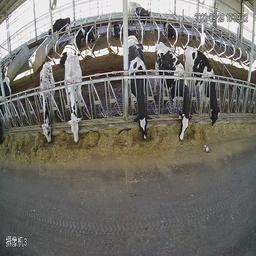cow: (153, 42, 189, 143), (190, 45, 221, 131), (128, 27, 148, 142), (63, 56, 84, 148), (38, 60, 54, 147), (60, 30, 85, 64), (47, 16, 71, 44), (135, 8, 151, 36), (85, 23, 100, 44), (162, 19, 178, 38), (111, 18, 123, 40)
